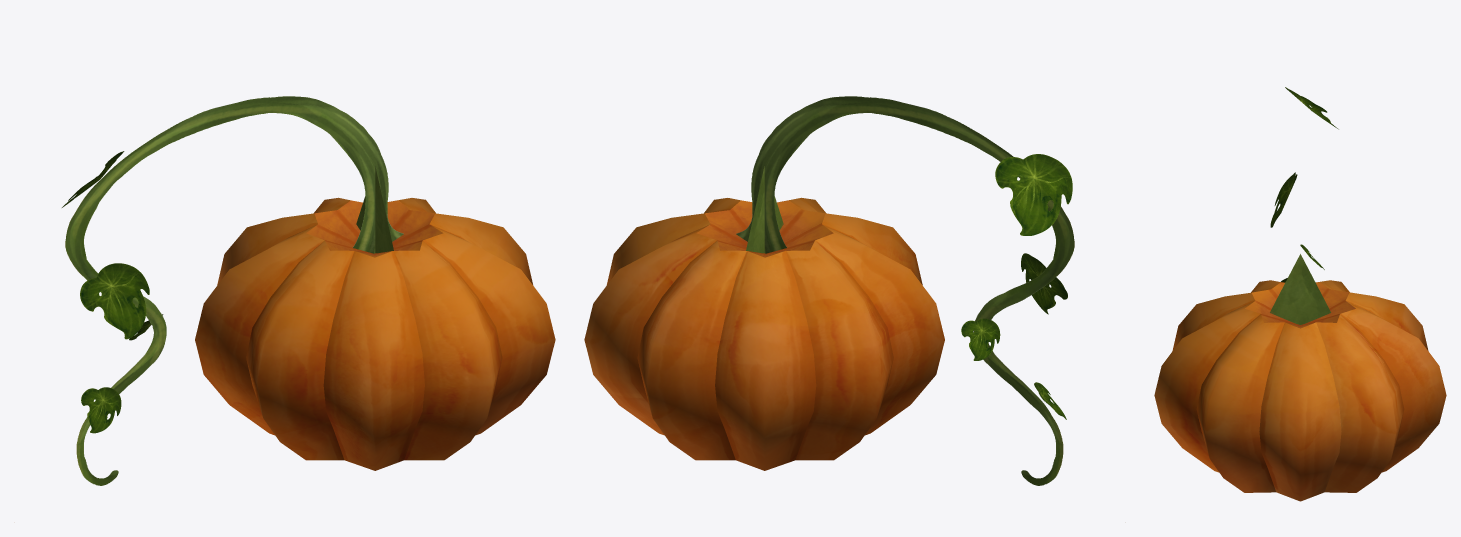
Rendered from pumpkin_w_Leaves.fbx.
3 views of the same model, side by side, from view 1: azimuth 30°, elevation 25°; view 2: azimuth 150°, elevation 25°; view 3: azimuth 270°, elevation 25° (orthographic). The views are drawn at different scales.
Visible parts, largest first — view 1: polySurface3; view 2: polySurface3; view 3: polySurface3.
Part boxes in pixels (x1,y1,x2,y2): polySurface3: [62, 96, 555, 485]; polySurface3: [584, 96, 1074, 485]; polySurface3: [1154, 87, 1446, 501].
Size of the model in its own units: 64.13 by 45.97 by 38.56.
Materials: 2 (2 with a texture image).
